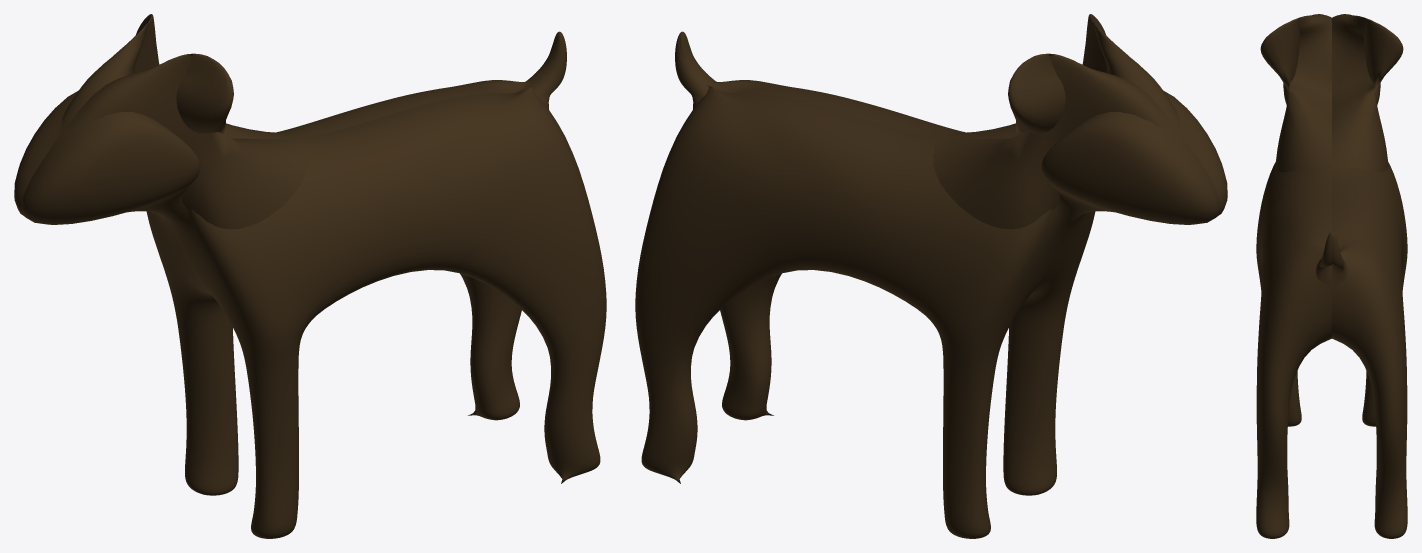
The model's file is dog_.glb.
The picture shows the model from 3 angles, left to right: view 1: azimuth 30°, elevation 25°; view 2: azimuth 150°, elevation 25°; view 3: azimuth 270°, elevation 25°; orthographic projection. The views are drawn at different scales.
Visible parts, largest first — view 1: dog?; view 2: dog?; view 3: dog?.
Boxes of the visible parts, <box> form: dog?: <box>14,14,606,538</box>; dog?: <box>635,14,1227,538</box>; dog?: <box>1256,14,1407,538</box>.
Bounding box in the file's own units: 0.6733 × 0.5845 × 0.2105.
